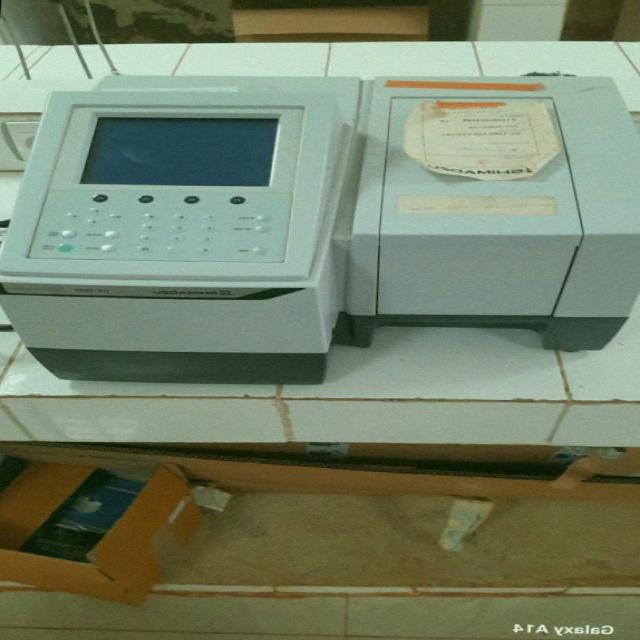Spectrophotometer: (0, 66, 640, 391)
